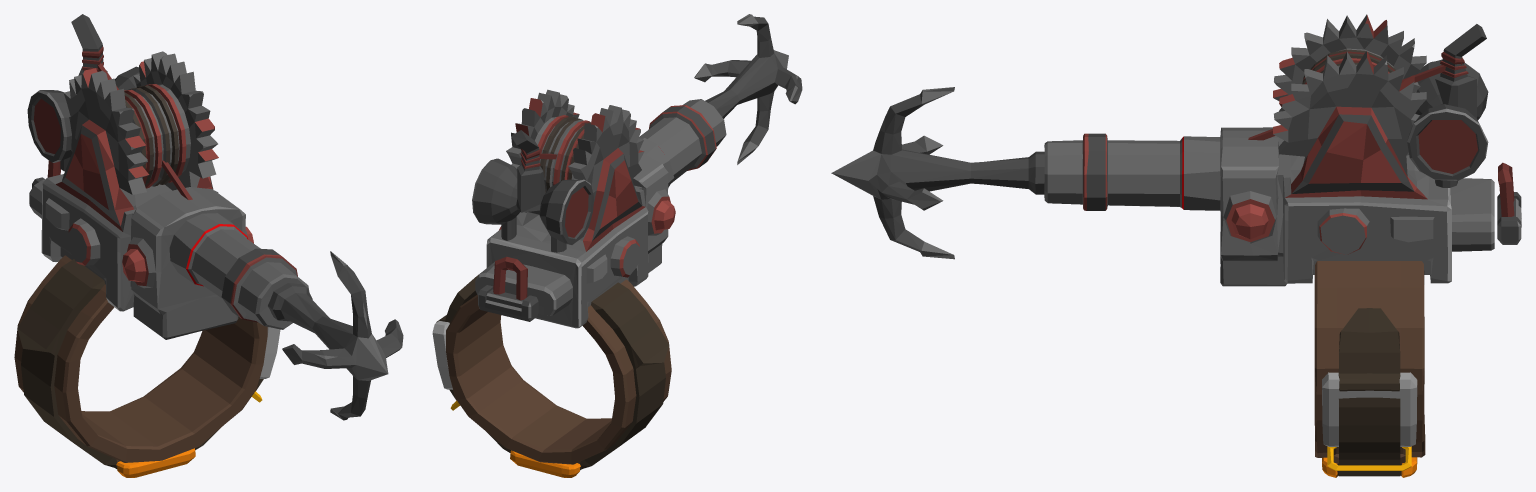
File: VR_SP_Prop_GrappleHook_01a.glb
The picture shows the model from 3 angles, left to right: view 1: azimuth 30°, elevation 25°; view 2: azimuth 150°, elevation 25°; view 3: azimuth 270°, elevation 25°; orthographic projection. The views are drawn at different scales.
Visible parts, largest first — view 1: VR_SP_Prop_GrappleHook_01a, VR_SP_Proop_Hook_01a; view 2: VR_SP_Prop_GrappleHook_01a, VR_SP_Proop_Hook_01a; view 3: VR_SP_Prop_GrappleHook_01a, VR_SP_Proop_Hook_01a.
Part boxes in pixels (x1,y1,x2,y2): VR_SP_Prop_GrappleHook_01a: (14, 14, 309, 477); VR_SP_Proop_Hook_01a: (268, 251, 403, 420); VR_SP_Prop_GrappleHook_01a: (432, 89, 726, 477); VR_SP_Proop_Hook_01a: (694, 14, 802, 164); VR_SP_Prop_GrappleHook_01a: (1044, 14, 1521, 477); VR_SP_Proop_Hook_01a: (831, 87, 1044, 259).
Size of the model in its own units: 0.0765 by 0.1235 by 0.1774.
1 material, 1 textured.
